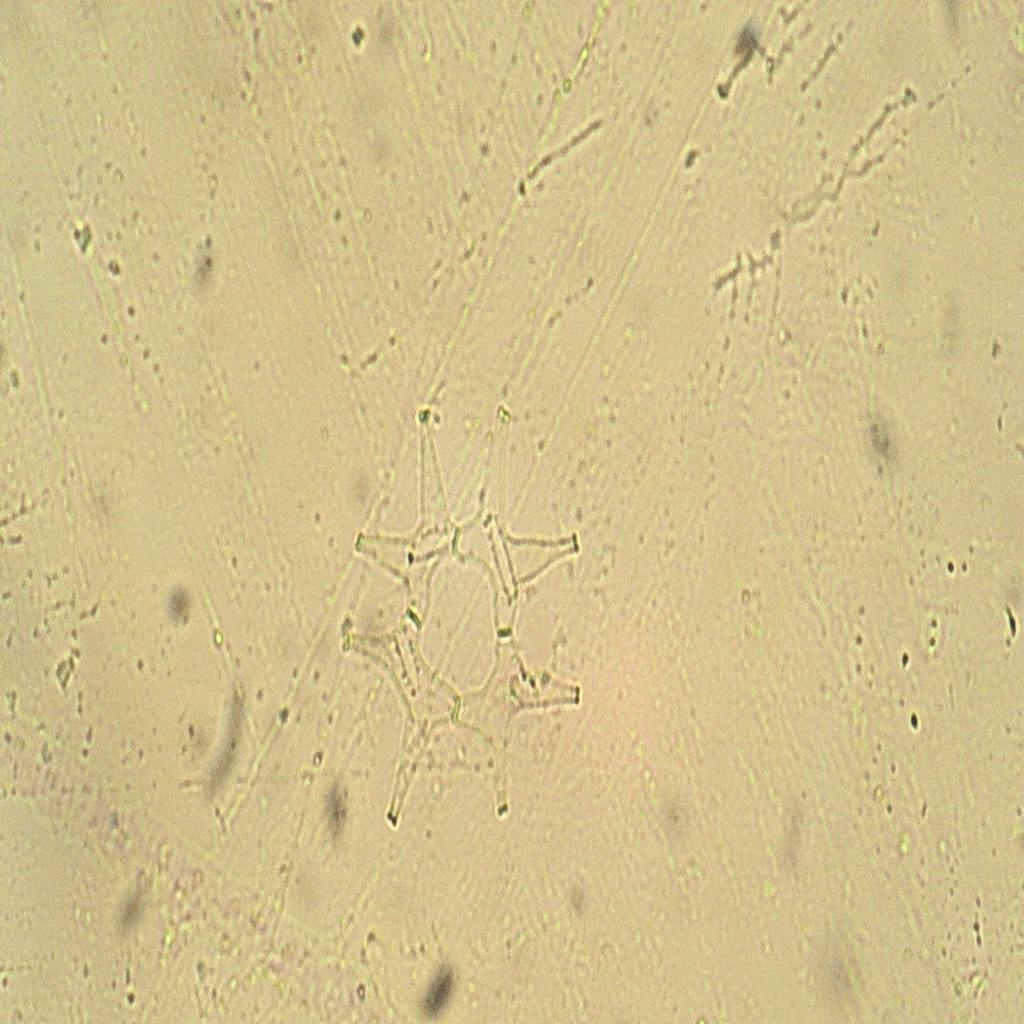Pediastrum_75TH: (326, 380, 599, 864)
